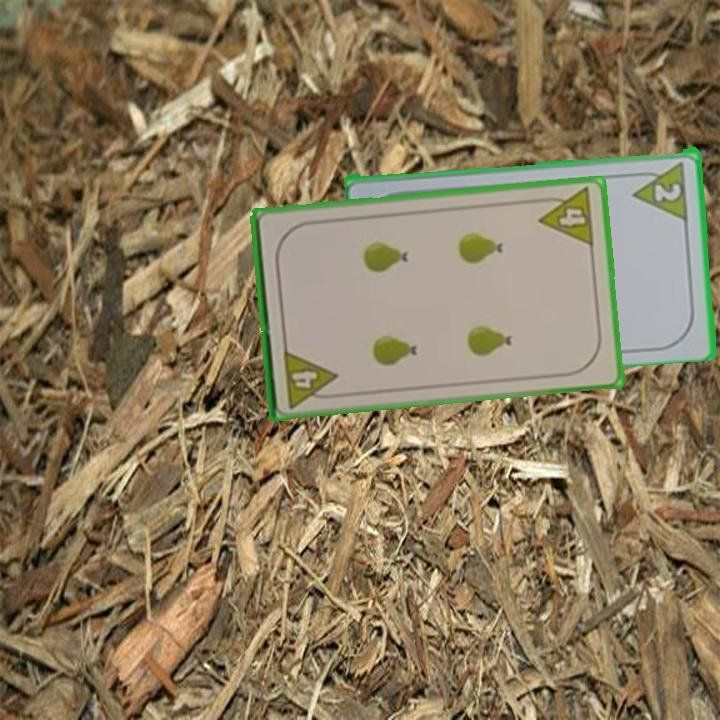2p: (651, 179, 684, 203)
4p: (534, 184, 597, 249), (279, 346, 341, 411)
